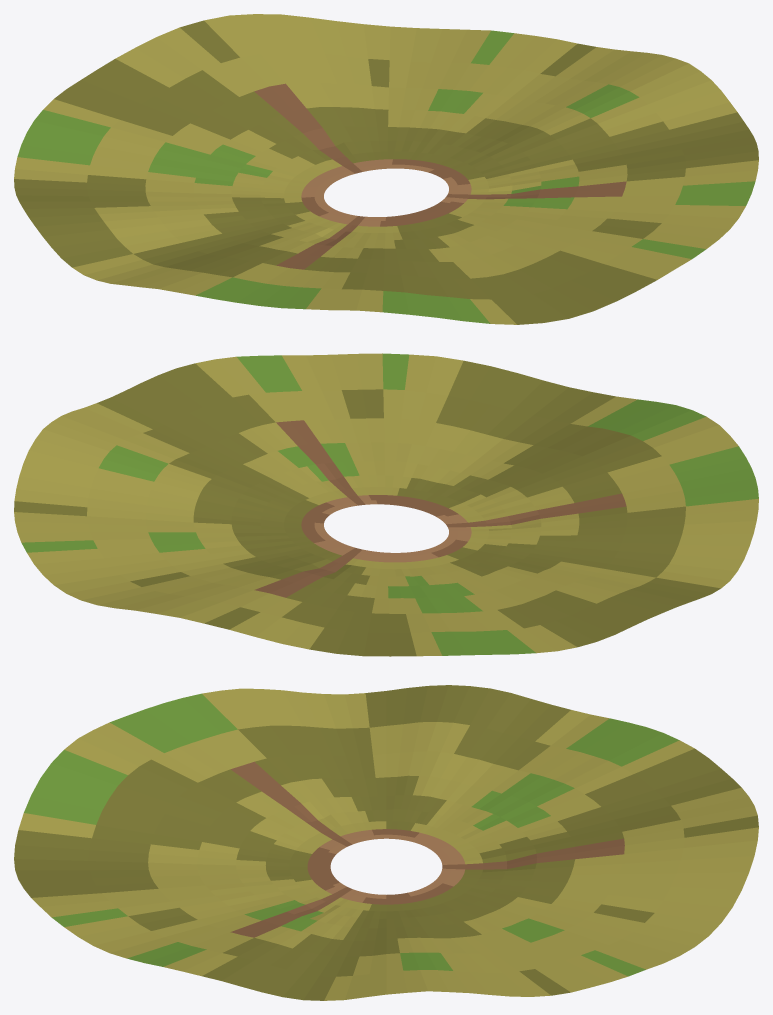
The model's file is SM_PitSurrounds.fbx.
3 renders of one model, top to bottom at view 1: azimuth 30°, elevation 25°; view 2: azimuth 150°, elevation 25°; view 3: azimuth 270°, elevation 25°, orthographic.
Parts seen in each view (by area): view 1: SM_PitSurrounds; view 2: SM_PitSurrounds; view 3: SM_PitSurrounds.
Boxes of the visible parts, bbox=[...] form: SM_PitSurrounds: bbox=[14, 14, 758, 324]; SM_PitSurrounds: bbox=[14, 353, 758, 656]; SM_PitSurrounds: bbox=[14, 685, 758, 1000].
Size of the model in its own units: 514 by 500 by 29.31.
